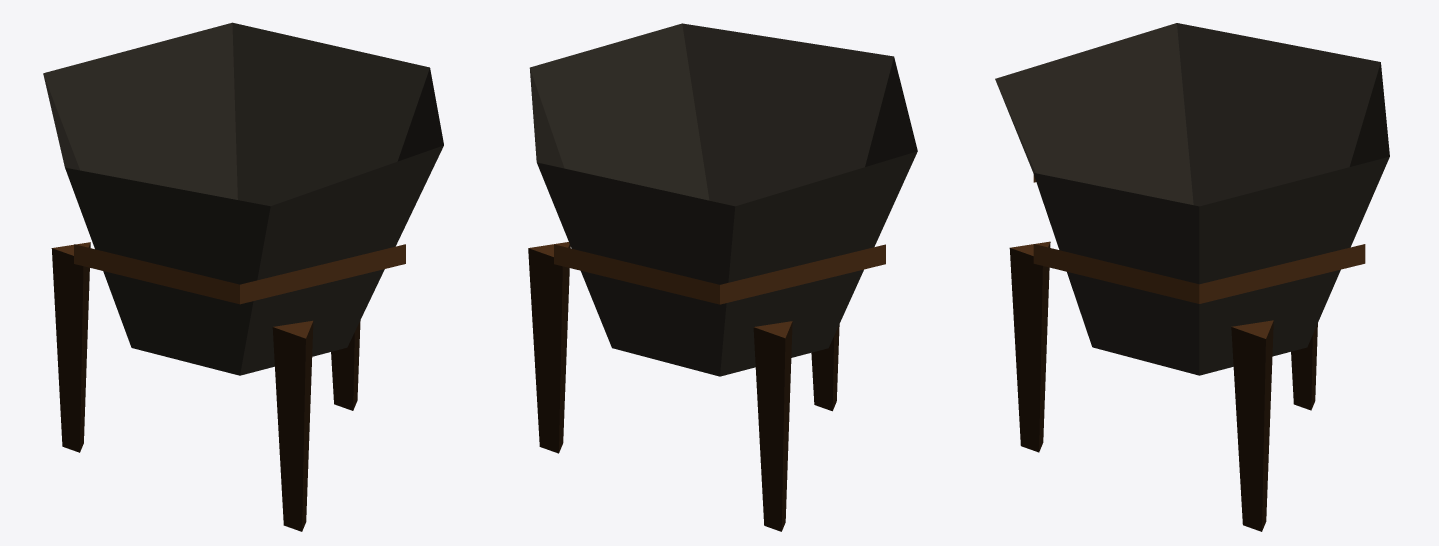
File: cauldron_merlin.glb
3 renders of one model, left to right at view 1: azimuth 30°, elevation 25°; view 2: azimuth 150°, elevation 25°; view 3: azimuth 270°, elevation 25°, orthographic.
Parts seen in each view (by area): view 1: Cauldron_Merlin; view 2: Cauldron_Merlin; view 3: Cauldron_Merlin.
Part boxes in pixels (<box>): Cauldron_Merlin: <box>43,22,443,531</box>; Cauldron_Merlin: <box>528,23,917,531</box>; Cauldron_Merlin: <box>995,23,1389,531</box>.
Size of the model in its own units: 2.41 by 2 by 2.3.
